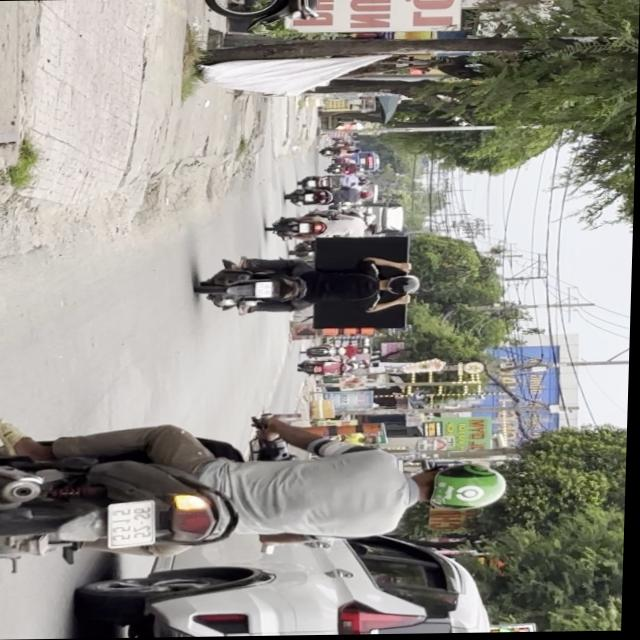helmet: (412, 461, 512, 514), (385, 276, 424, 296)
licenseplate: (0, 413, 514, 569), (199, 253, 426, 318)
nohelmet: (113, 501, 160, 547), (257, 282, 275, 298)
